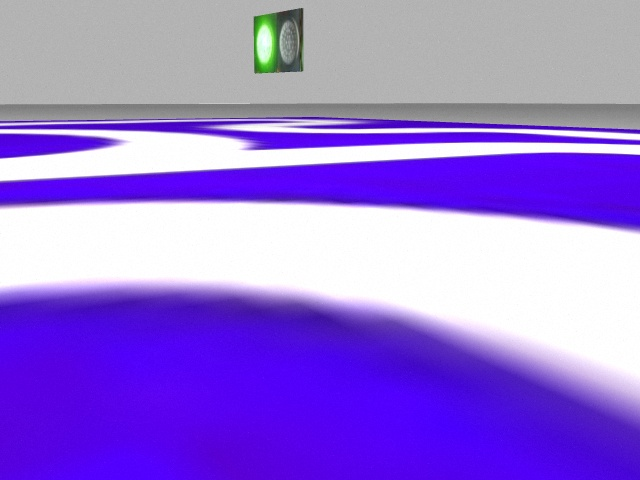green: (254, 18, 277, 71)
